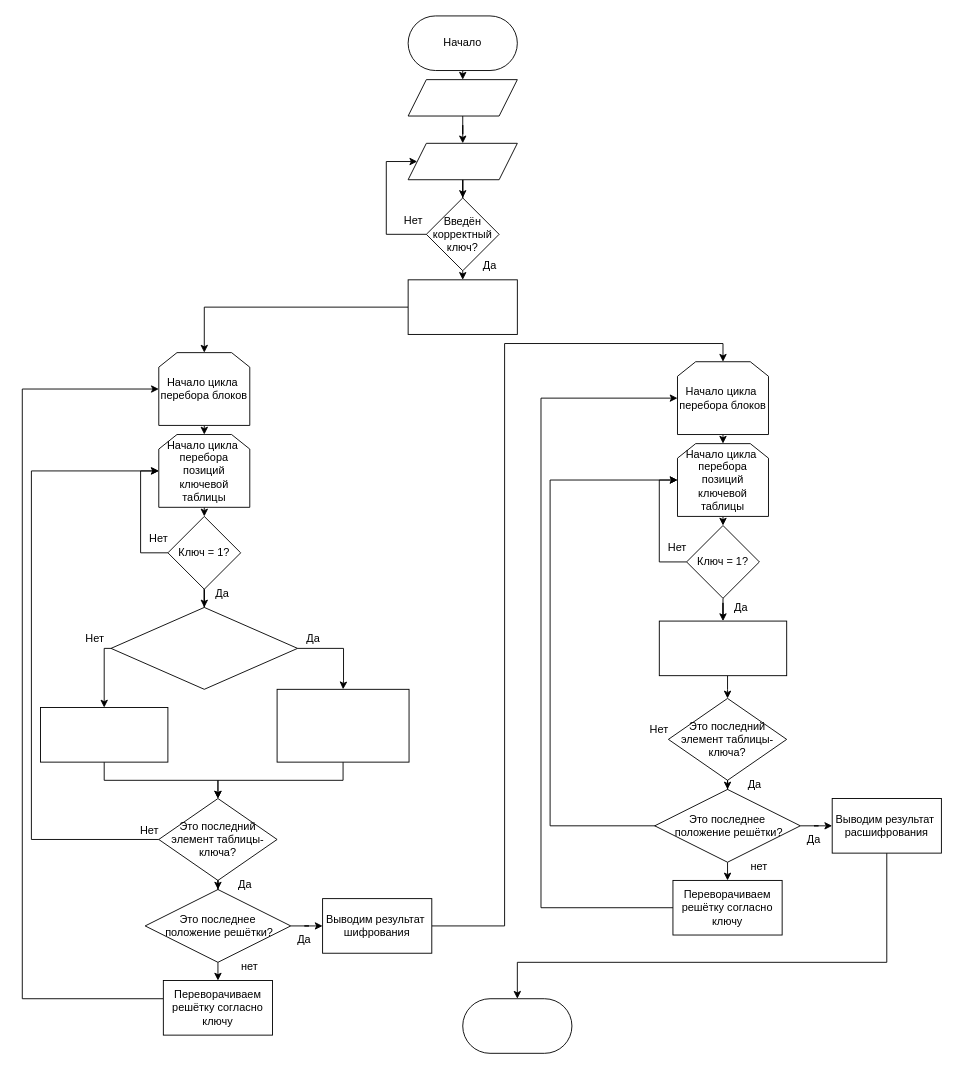
Image size: 957x1069. Some labels were removed from this diagram. Here are the shapes that lost their labels. From the top down, the box of each, then its label:
(407, 79, 517, 116): Ввод текста
(407, 142, 517, 180): Ввод ключа
(407, 279, 517, 334): Разбиваем текст на блоки длиной 60 символов
(110, 607, 298, 689): В тексте ещё есть незаписанные символы
(658, 620, 787, 676): Записываем в результат букву, стоящую на этой позиции в шифртексте
(40, 707, 168, 762): Записываем в таблицу на такую же позицию случайную букву из алфавита
(276, 688, 409, 762): Записываем в таблицу на такую же позицию букву из текста
(462, 998, 572, 1053): Конец
